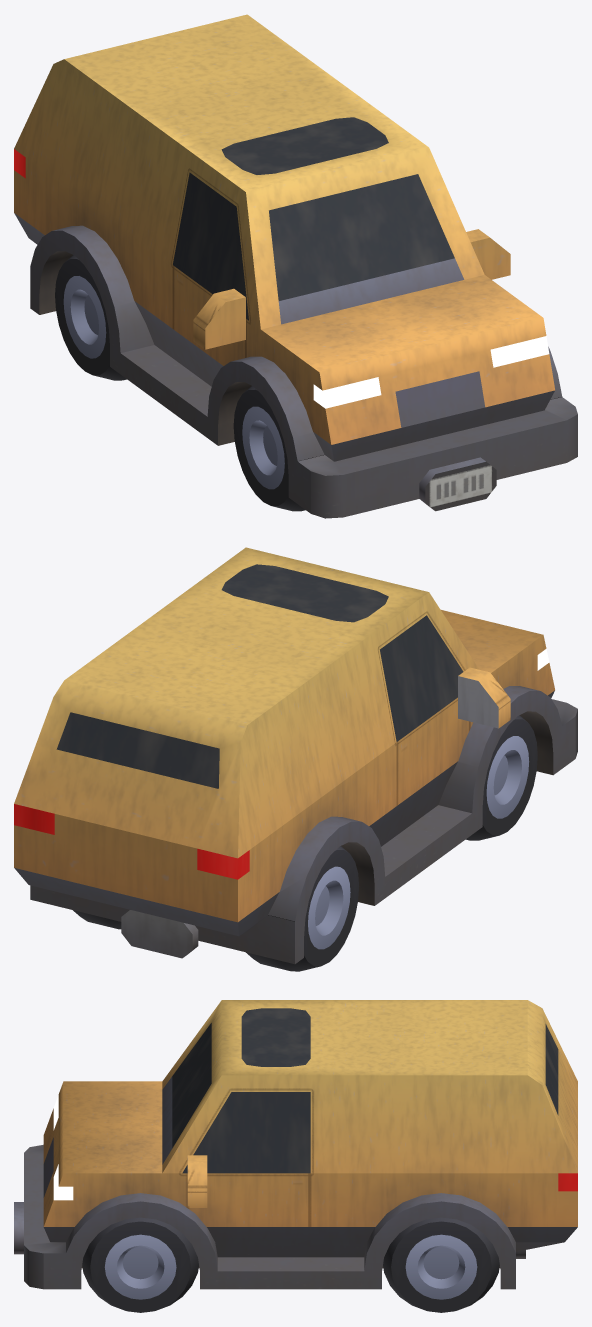
File: suv-luxury-L2.glb
3 renders of one model, top to bottom at view 1: azimuth 30°, elevation 25°; view 2: azimuth 150°, elevation 25°; view 3: azimuth 270°, elevation 25°, orthographic. The views are drawn at different scales.
Visible parts, largest first — view 1: body, wheel-front-right, wheel-back-right; view 2: body, wheel-back-right, wheel-front-right; view 3: body, wheel-back-left, wheel-front-left.
Boxes of the visible parts, <box> form: body: <box>14,14,577,518</box>; wheel-front-right: <box>233,386,305,511</box>; wheel-back-right: <box>55,255,126,380</box>; body: <box>14,547,577,964</box>; wheel-back-right: <box>246,846,359,971</box>; wheel-front-right: <box>466,715,537,840</box>; body: <box>14,1000,577,1289</box>; wheel-back-left: <box>383,1217,499,1312</box>; wheel-front-left: <box>82,1217,198,1312</box>.
Size of the model in its own units: 1.5 by 1.3 by 2.85.
Materials: 5 (5 with a texture image).
